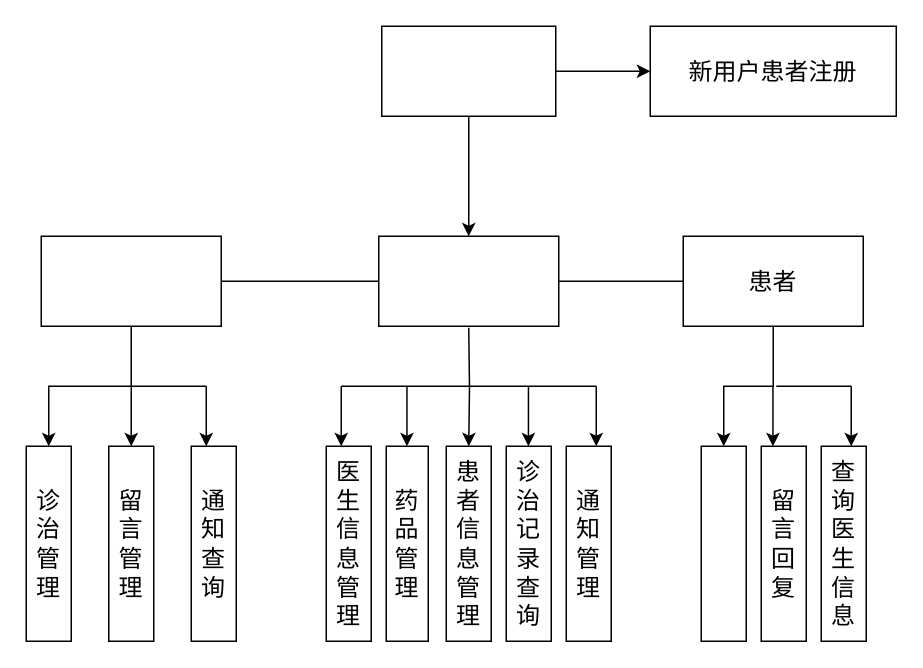
This 923x668 diagram has some shape labels left out. Each missing label, with the centre of its shape:
"医生" goes at pixel 130 280.
"在线挂号" goes at pixel 723 543.
"登陆界面" goes at pixel 468 70.
"管理员" goes at pixel 468 280.
